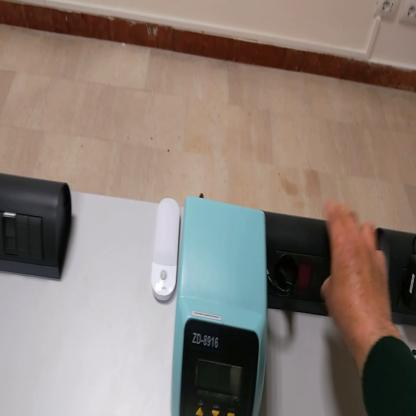hand: (320, 200, 396, 348)
socket: (377, 227, 416, 326)
welder station: (175, 194, 268, 414)
